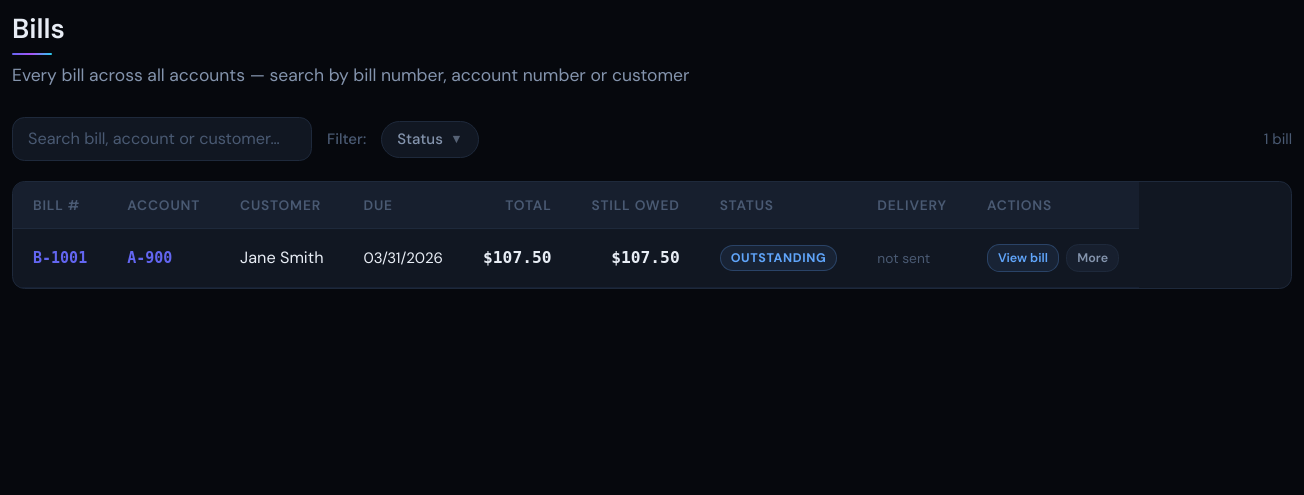
Test: Bills page — status › offers settlement states, not just posted and not posted
The image size is (1304, 495).
expect the button "B-1001" is shown: met, box left=33, top=247, right=87, bottom=269
Click the button "Status ▼" at point(430, 139), box left=381, top=121, right=479, bottom=158
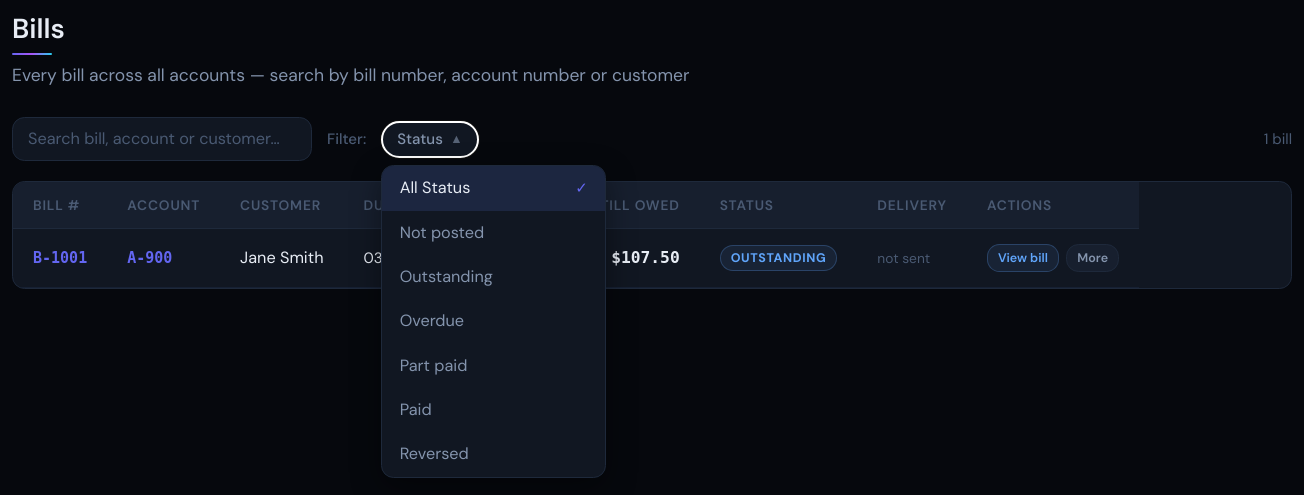
expect the button "Not posted" is shown: met, box left=382, top=211, right=605, bottom=255
expect the button "Outstanding" is shown: met, box left=382, top=255, right=605, bottom=299
expect the button "Overdue" is shown: met, box left=382, top=299, right=605, bottom=344
